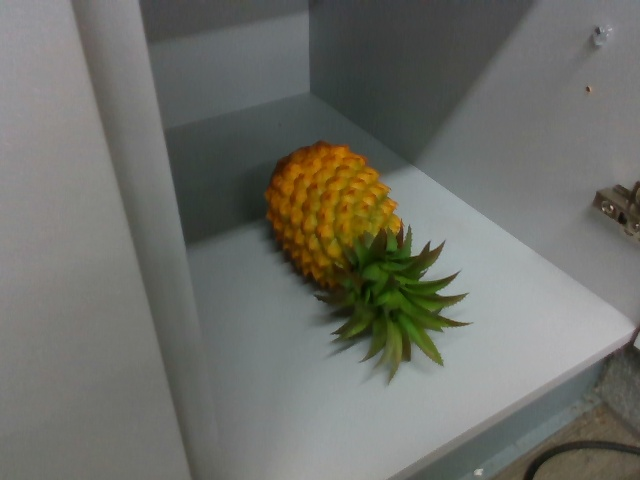pineapple: (256, 136, 475, 378)
